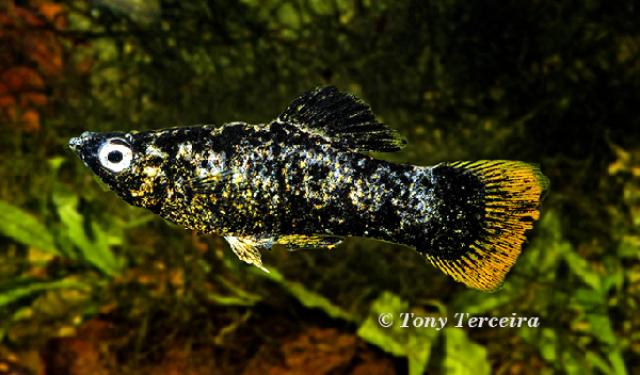Mulut: (60, 114, 100, 168)
Sirip Anal: (282, 220, 350, 260)
Sirip Dada: (184, 162, 266, 209)
Sirip Ekor: (417, 138, 557, 308)
Sirip Perut: (218, 223, 278, 280)
Sirip Punggung: (281, 75, 414, 163)
